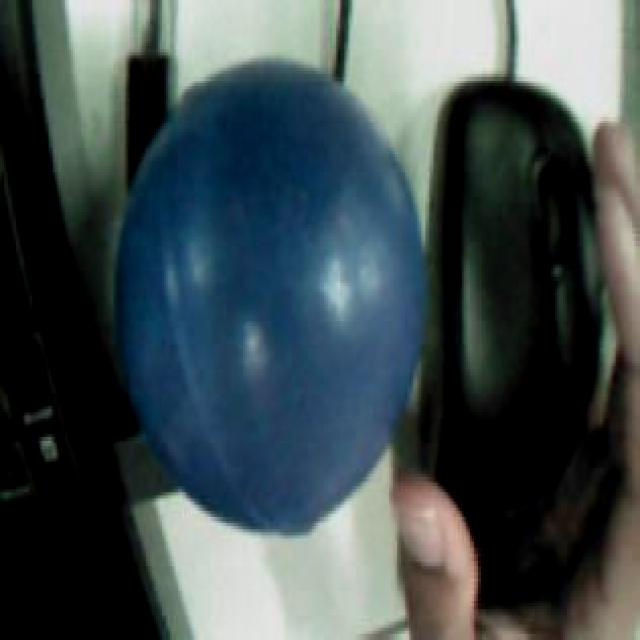BallPurple: (115, 58, 426, 539)
